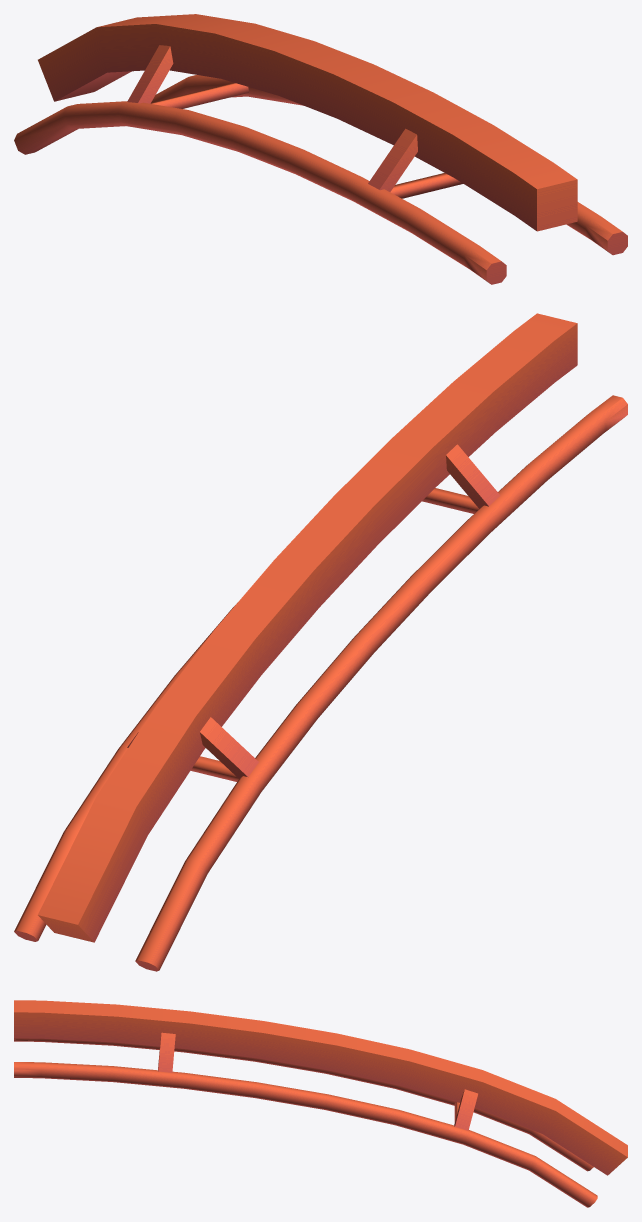
The model's file is coaster-hanging-straight-hill-end.glb.
3 renders of one model, top to bottom at view 1: azimuth 30°, elevation 25°; view 2: azimuth 150°, elevation 25°; view 3: azimuth 270°, elevation 25°, orthographic. The views are drawn at different scales.
Parts seen in each view (by area): view 1: coaster-hanging-straight-hill-end; view 2: coaster-hanging-straight-hill-end; view 3: coaster-hanging-straight-hill-end.
Part boxes in pixels (x1,y1,x2,y2): coaster-hanging-straight-hill-end: (14,14,627,284); coaster-hanging-straight-hill-end: (14,313,627,971); coaster-hanging-straight-hill-end: (14,1000,627,1207).
Size of the model in its own units: 2.1 by 4.2 by 12.85.
Materials: 1 (1 with a texture image).
